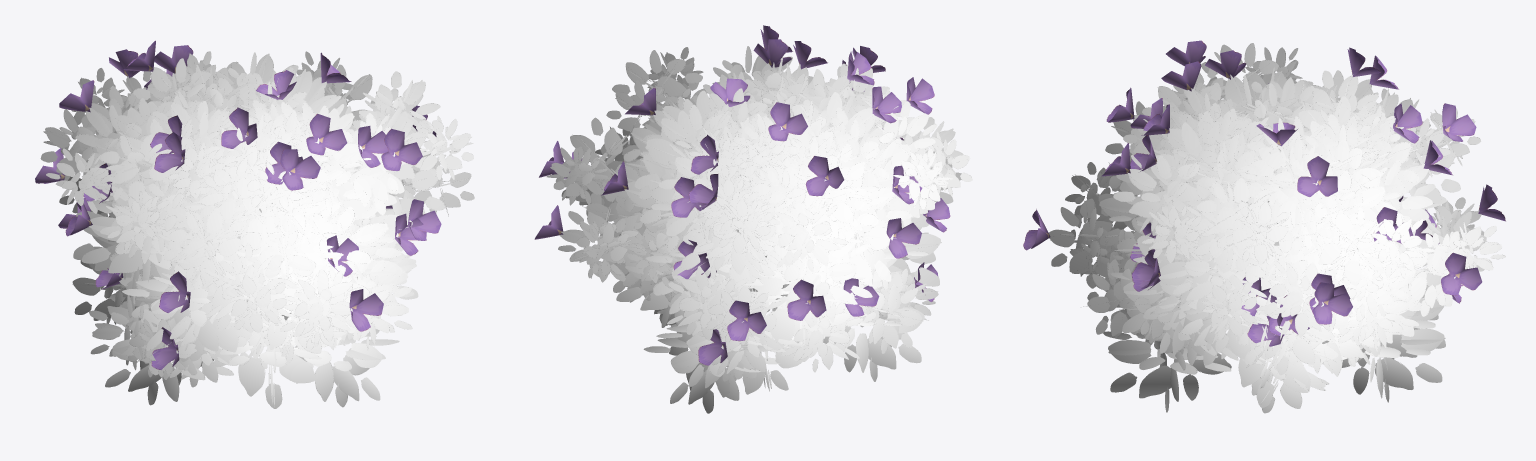
File: Bush_Common_Flowers.gltf
The picture shows the model from 3 angles, left to right: view 1: azimuth 30°, elevation 25°; view 2: azimuth 150°, elevation 25°; view 3: azimuth 270°, elevation 25°; orthographic projection. The views are drawn at different scales.
Visible parts, largest first — view 1: Bush_Common_Flowers; view 2: Bush_Common_Flowers; view 3: Bush_Common_Flowers.
Boxes of the visible parts, x1,y1,x2,y2 form: Bush_Common_Flowers: [35, 40, 474, 408]; Bush_Common_Flowers: [534, 25, 972, 413]; Bush_Common_Flowers: [1023, 40, 1505, 413].
Bounding box in the file's own units: 1.91 × 1.58 × 1.97.
Materials: 2 (2 with a texture image).
